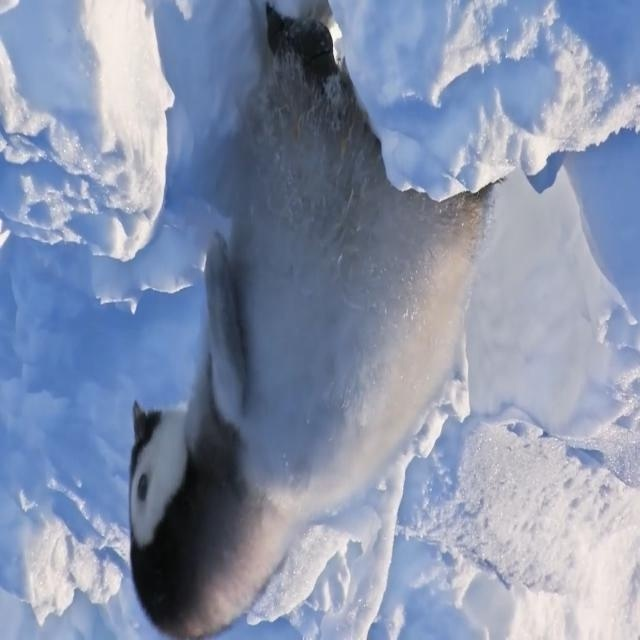penguin: (133, 4, 499, 639)
